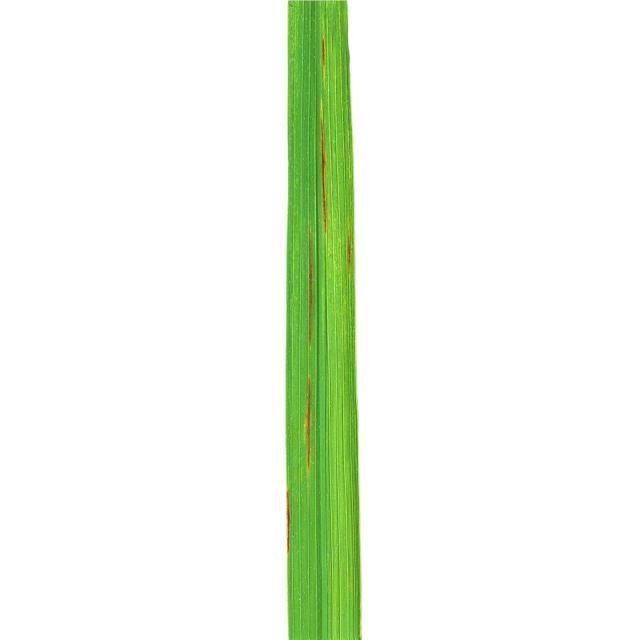Narrow brown: (218, 0, 434, 639)
